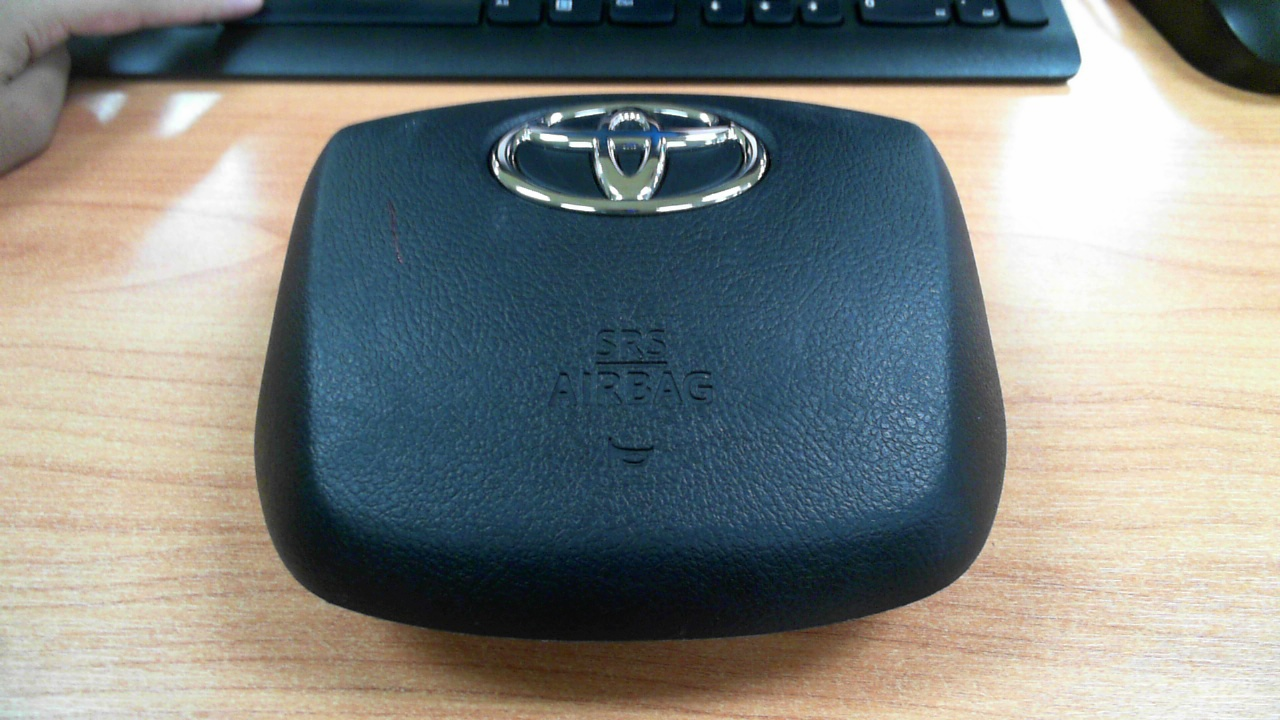Airbag: (251, 96, 1009, 643)
Toyota: (492, 102, 768, 214)
